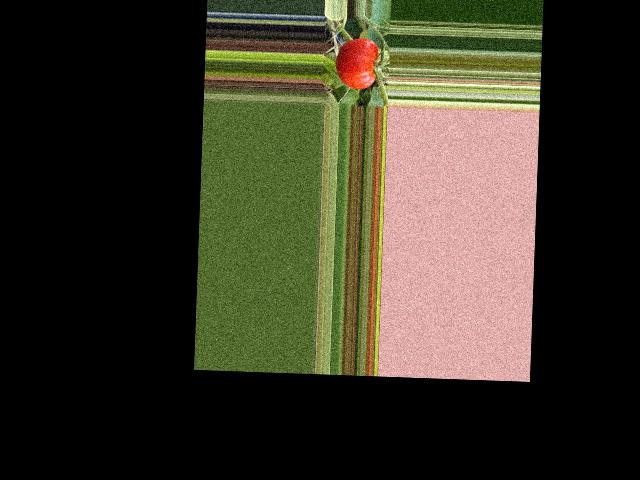tomato: (334, 36, 378, 89)
